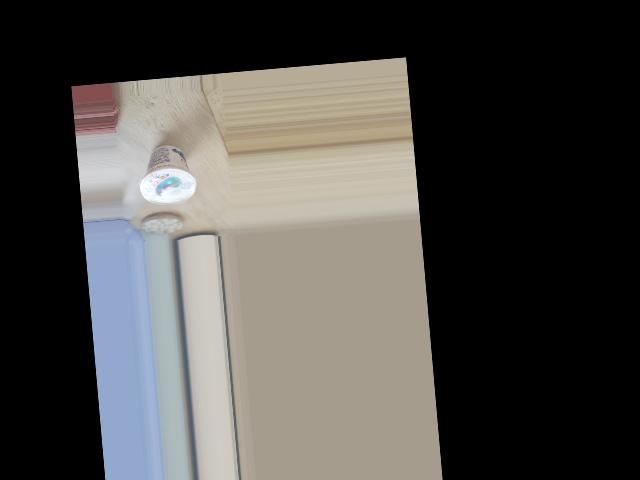cotage: (145, 133, 199, 207)
